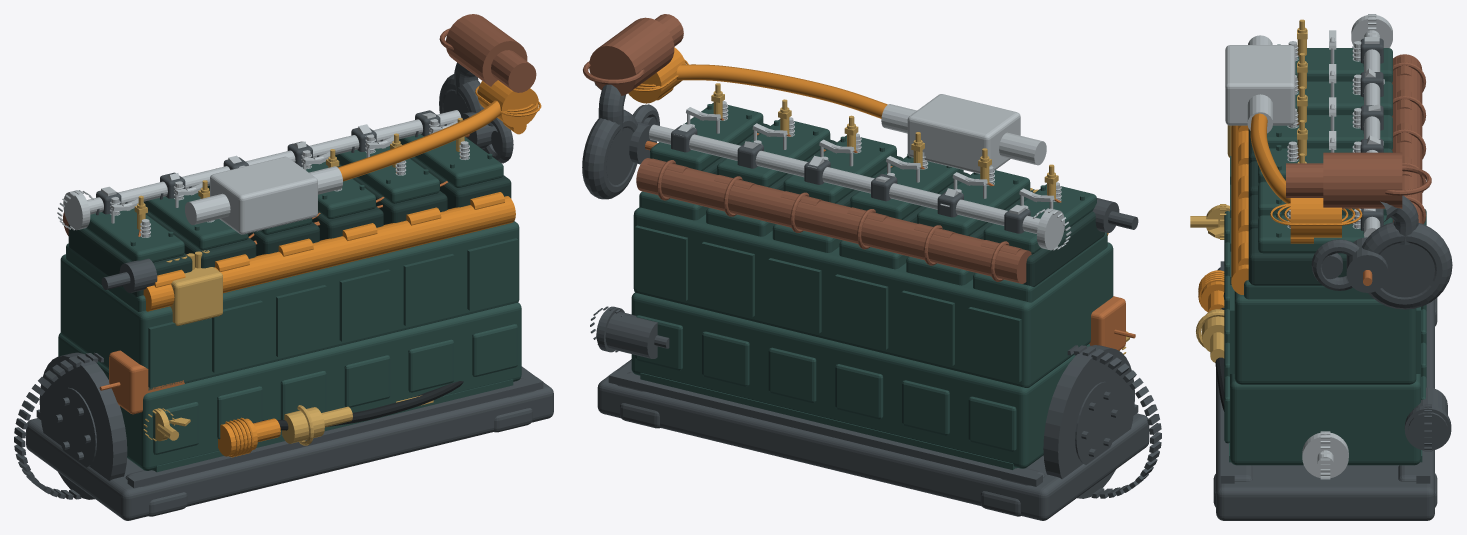
Rendered from marine_engine.glb.
3 views of the same model, side by side, from view 1: azimuth 30°, elevation 25°; view 2: azimuth 150°, elevation 25°; view 3: azimuth 270°, elevation 25° (orthographic). The views are drawn at different scales.
Parts seen in each view (by area): view 1: cylinder_block, crankcase, bedplate, valve_covers, intake_manifold, flywheel, cylinder_heads, intercooler, camshaft, exhaust_silencer, turbocharger, fuel_pump (+12 smaller); view 2: cylinder_block, crankcase, bedplate, valve_covers, exhaust_manifold, flywheel, intercooler, camshaft, turbocharger, exhaust_silencer, charge_pipe, cylinder_heads (+8 smaller); view 3: cylinder_block, crankcase, bedplate, valve_covers, turbocharger, exhaust_silencer, intercooler, exhaust_manifold, cylinder_heads, intake_manifold, camshaft, air_filter (+12 smaller).
Boxes of the visible parts, bbox=[...] form: cylinder_block: bbox=[60, 221, 519, 390]; crankcase: bbox=[58, 302, 521, 472]; bedplate: bbox=[26, 366, 553, 520]; valve_covers: bbox=[86, 134, 503, 262]; intake_manifold: bbox=[143, 192, 515, 311]; flywheel: bbox=[14, 352, 127, 499]; cylinder_heads: bbox=[68, 157, 511, 296]; intercooler: bbox=[185, 156, 342, 234]; camshaft: bbox=[57, 110, 461, 230]; exhaust_silencer: bbox=[439, 14, 536, 92]; turbocharger: bbox=[439, 62, 513, 163]; fuel_pump: bbox=[166, 250, 222, 325]; cylinder_block: bbox=[633, 191, 1113, 387]; crankcase: bbox=[631, 292, 1090, 469]; bedplate: bbox=[597, 359, 1149, 520]; valve_covers: bbox=[650, 103, 1096, 254]; exhaust_manifold: bbox=[636, 158, 1031, 283]; flywheel: bbox=[1043, 345, 1161, 498]; intercooler: bbox=[881, 94, 1046, 173]; camshaft: bbox=[649, 123, 1071, 250]; turbocharger: bbox=[582, 83, 659, 199]; exhaust_silencer: bbox=[583, 14, 683, 95]; charge_pipe: bbox=[676, 64, 887, 118]; cylinder_heads: bbox=[699, 123, 1104, 286]; cylinder_block: bbox=[1230, 156, 1420, 384]; crankcase: bbox=[1224, 209, 1426, 465]; bedplate: bbox=[1213, 261, 1437, 520]; valve_covers: bbox=[1258, 44, 1392, 253]; turbocharger: bbox=[1311, 195, 1452, 309]; exhaust_silencer: bbox=[1286, 152, 1431, 208]; intercooler: bbox=[1225, 35, 1295, 133]; exhaust_manifold: bbox=[1392, 54, 1426, 224]; cylinder_heads: bbox=[1248, 129, 1346, 285]; intake_manifold: bbox=[1231, 125, 1248, 294]; camshaft: bbox=[1351, 14, 1392, 237]; air_filter: bbox=[1270, 198, 1362, 243].
Bounding box in the file's own units: 2.76 × 1.79 × 1.12.
